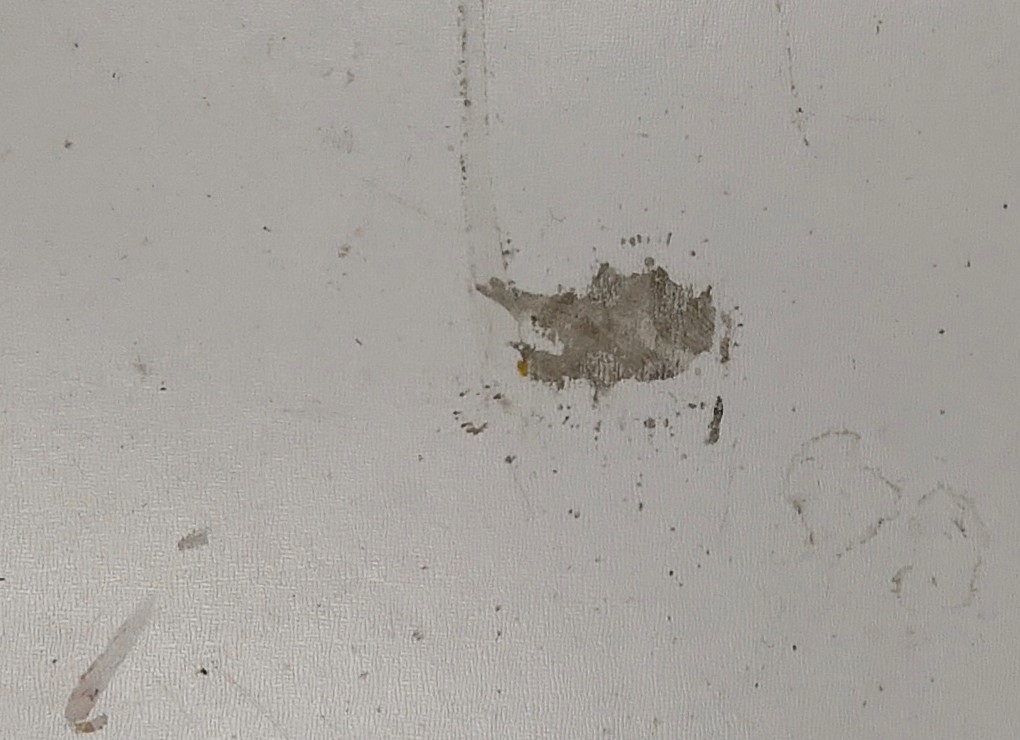grey spot: (473, 258, 716, 388), (703, 393, 722, 444), (721, 310, 731, 364)
